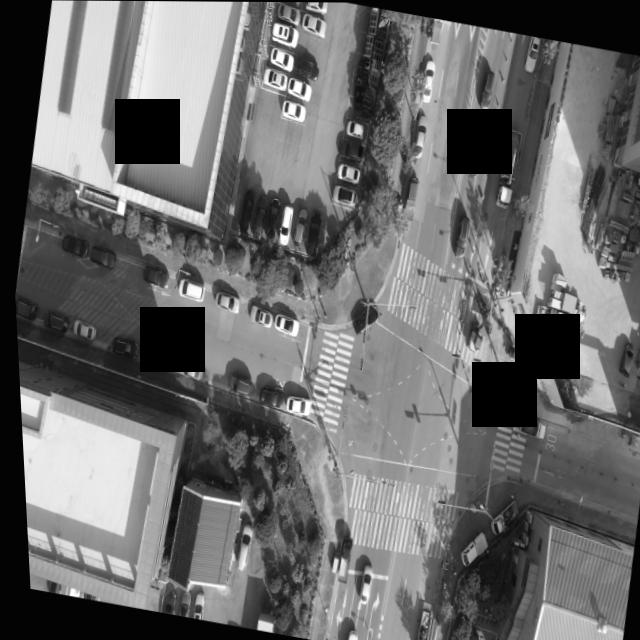car: (227, 522, 250, 573), (461, 130, 485, 178), (246, 193, 268, 242), (235, 187, 257, 236), (85, 239, 116, 272), (397, 177, 418, 220), (220, 371, 252, 399), (521, 35, 543, 75), (260, 197, 280, 241), (350, 303, 378, 334), (37, 305, 67, 333), (419, 58, 438, 102), (301, 212, 320, 253), (273, 204, 292, 244), (300, 13, 329, 39), (283, 78, 311, 103), (475, 68, 492, 109), (12, 294, 36, 323), (289, 210, 307, 248), (613, 341, 633, 375), (278, 98, 305, 123), (280, 395, 309, 418), (138, 268, 168, 290), (172, 280, 202, 302), (330, 183, 356, 208), (243, 305, 271, 328), (292, 57, 320, 80), (106, 337, 135, 359), (57, 235, 86, 257), (267, 47, 293, 71), (210, 292, 238, 314), (65, 317, 93, 339), (172, 358, 200, 380), (352, 564, 368, 602), (270, 313, 296, 336), (334, 163, 360, 185), (276, 2, 302, 24), (263, 70, 289, 92), (269, 22, 295, 44), (167, 589, 187, 617), (141, 349, 167, 369), (338, 140, 362, 160), (67, 324, 91, 344), (254, 386, 276, 407), (343, 118, 365, 138), (183, 593, 198, 619), (157, 589, 171, 614), (303, 2, 327, 14), (340, 630, 353, 640)
medium_truck: (489, 131, 524, 206)
small_truck: (483, 492, 518, 538), (450, 528, 484, 570), (325, 535, 349, 585), (404, 598, 430, 640), (513, 415, 543, 439)
